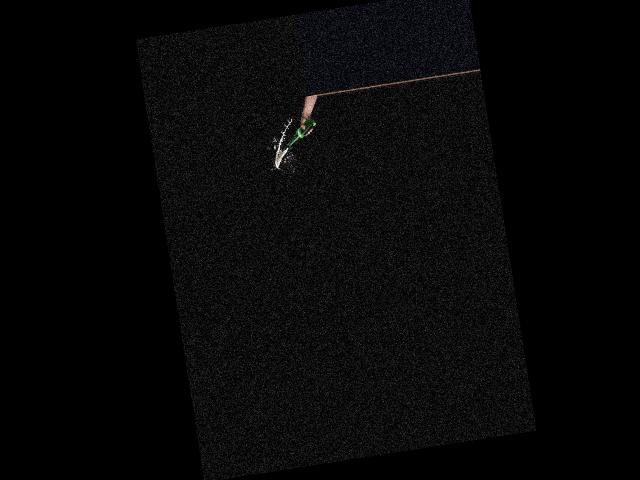beer: (284, 117, 319, 147)
